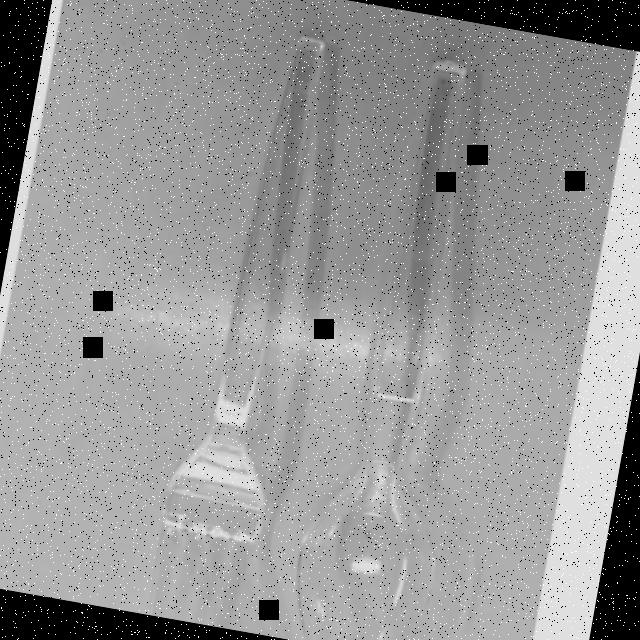plastic_box: (143, 22, 526, 640)
